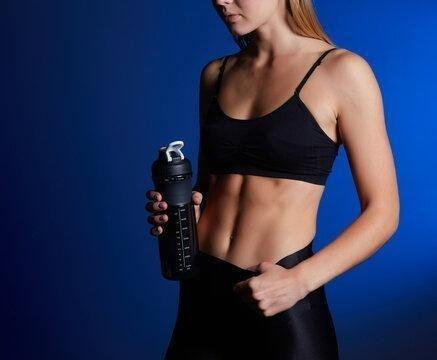gym bottle: (151, 141, 201, 280)
